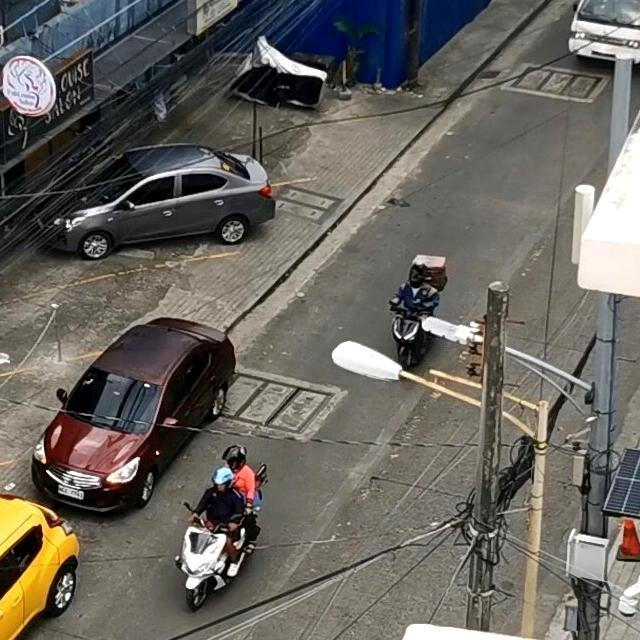Motorcycle: (170, 426, 280, 617), (358, 247, 468, 361)
